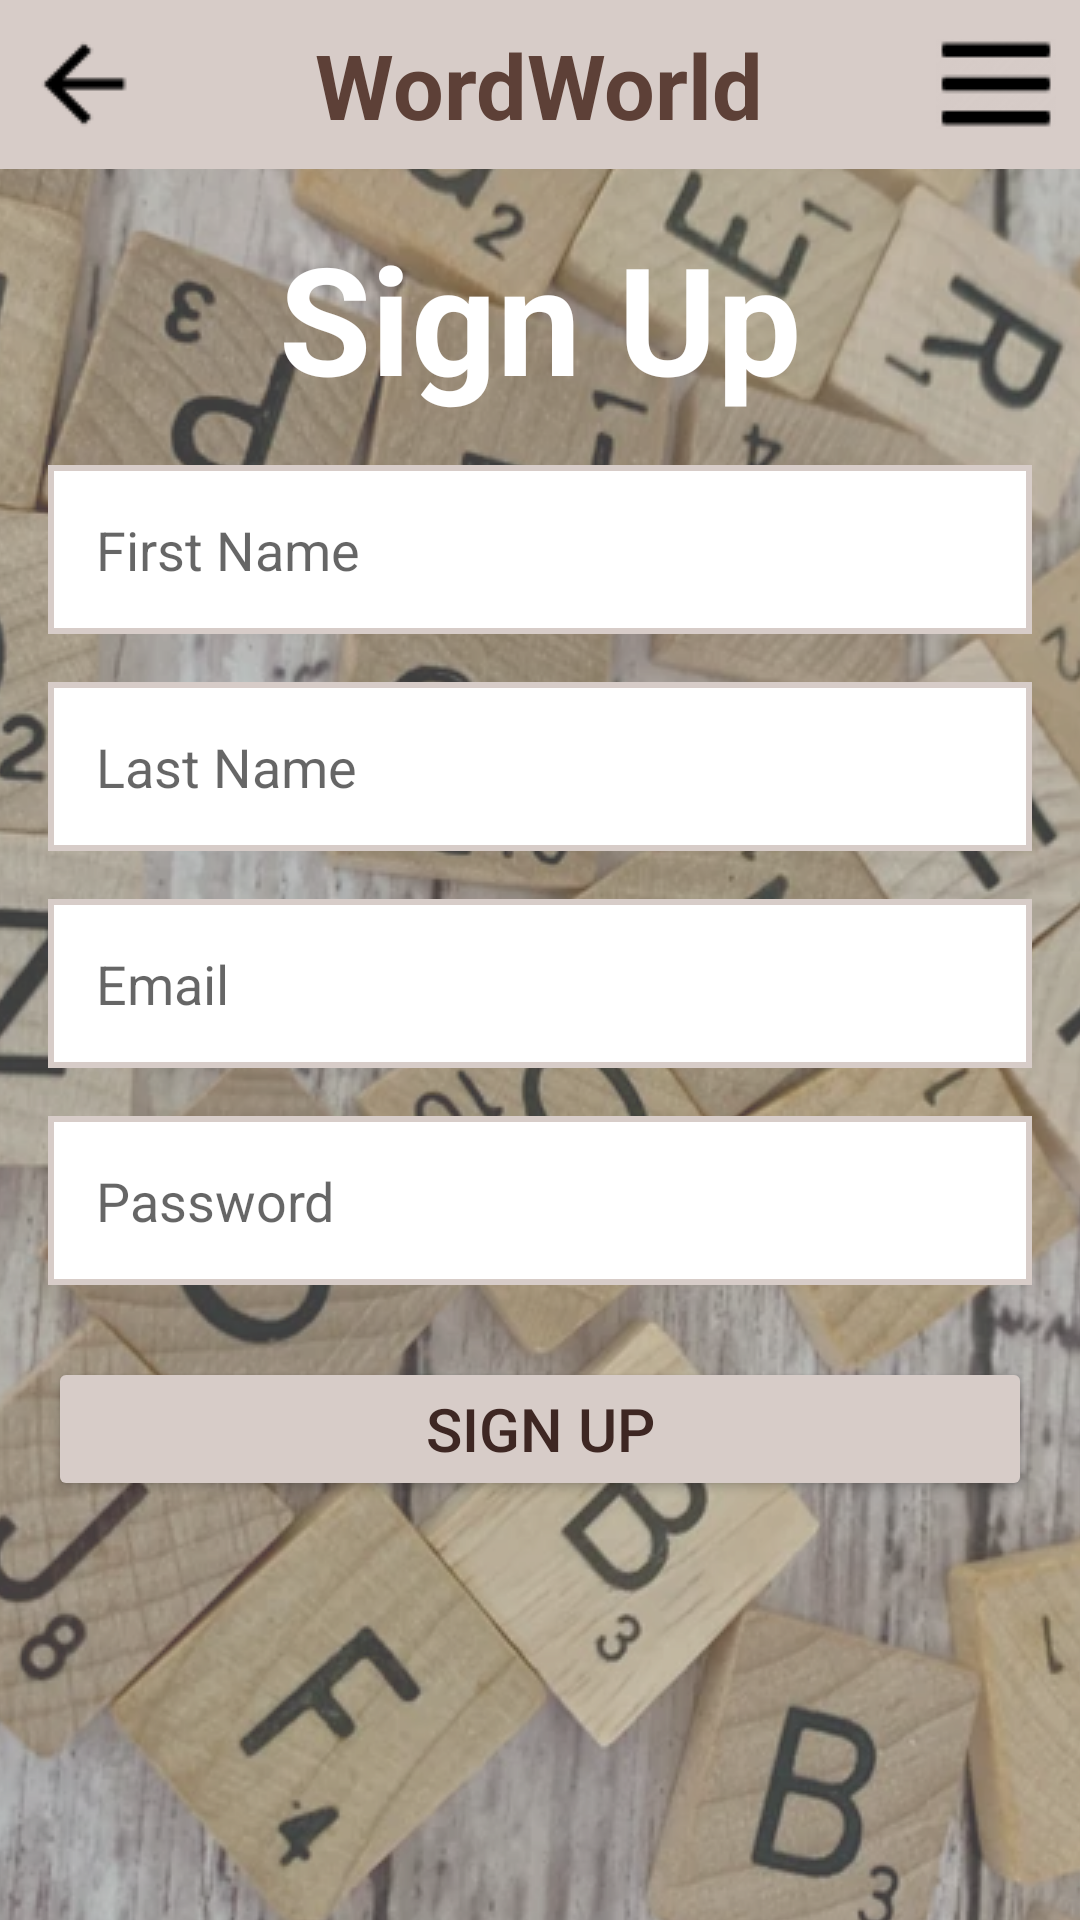

Named icons in this screenshot (1080x1920) and their bounding boxes, (x1, y1, x2, y2):
Back: (44, 44, 127, 124)
Navigation: (941, 41, 1051, 127)
